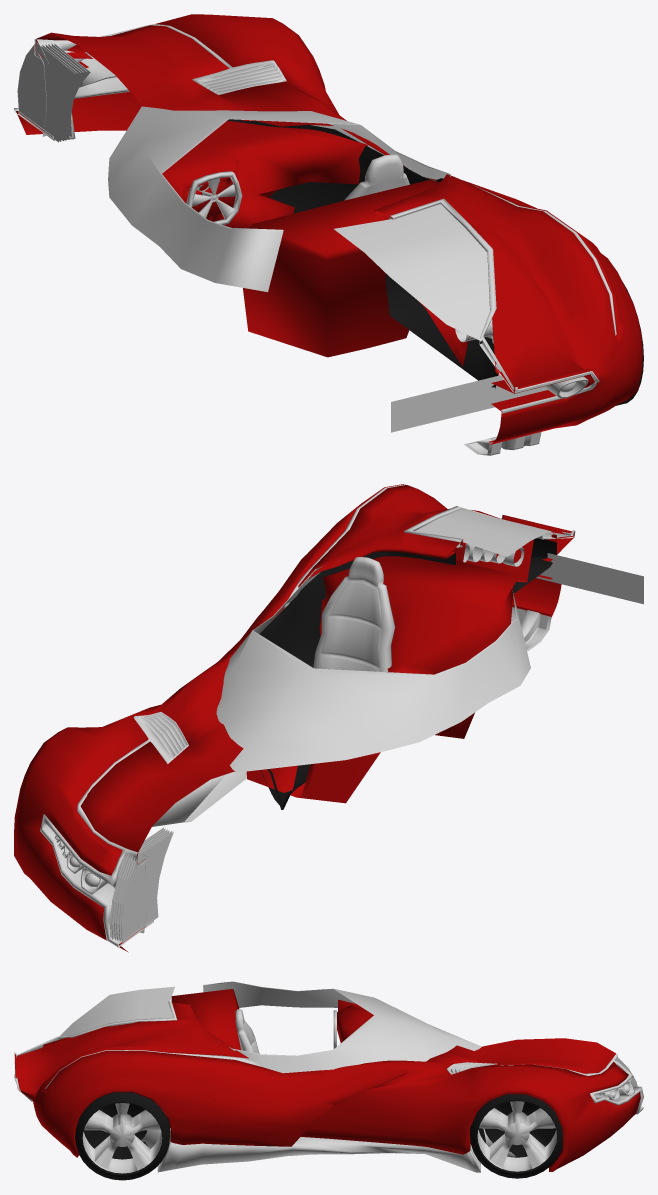
Rendered from ferrari.dae.
3 views of the same model, one above another, from view 1: azimuth 30°, elevation 25°; view 2: azimuth 150°, elevation 25°; view 3: azimuth 270°, elevation 25° (orthographic). The views are drawn at different scales.
Parts seen in each view (by area): view 1: Body, Dashboard, Windshield, Engine_Glass, Grille, Front_Chrome, Rear, Engine_Compartment, Passenger_Compartment, Rear_Chrom, Steering_Wheel, Seats (+2 smaller); view 2: Body, Windshield, Dashboard, Seats, Front_Chrome, Passenger_Compartment, Grille, Engine_Glass, Rear, Side_Bumpers, Engine_Cover, Diffuser (+3 smaller); view 3: Body, Wheels, Windshield, Side_Bumpers, Dashboard, Engine_Glass, Front_Chrome, Rear_Chrom, Seats, Shoulder_Chrome, Headlight_Chrome.
Part boxes in pixels (<box>): Body: <box>16,14,642,444</box>; Dashboard: <box>162,120,439,357</box>; Windshield: <box>108,106,450,292</box>; Engine_Glass: <box>334,204,489,340</box>; Grille: <box>17,42,90,142</box>; Front_Chrome: <box>14,24,286,140</box>; Rear: <box>391,375,547,432</box>; Engine_Compartment: <box>385,273,498,388</box>; Passenger_Compartment: <box>227,119,443,213</box>; Rear_Chrom: <box>388,198,599,413</box>; Steering_Wheel: <box>186,171,242,224</box>; Seats: <box>344,154,409,200</box>; Body: <box>14,484,574,952</box>; Windshield: <box>216,560,530,772</box>; Dashboard: <box>246,556,518,803</box>; Seats: <box>313,557,395,671</box>; Front_Chrome: <box>40,712,188,947</box>; Passenger_Compartment: <box>226,551,455,809</box>; Grille: <box>109,827,173,943</box>; Engine_Glass: <box>415,509,553,556</box>; Rear: <box>536,553,643,604</box>; Side_Bumpers: <box>152,771,246,826</box>; Engine_Cover: <box>452,539,533,582</box>; Diffuser: <box>511,607,551,650</box>; Body: <box>15,1002,640,1171</box>; Wheels: <box>75,1092,562,1180</box>; Windshield: <box>203,981,481,1073</box>; Side_Bumpers: <box>141,1128,515,1172</box>; Dashboard: <box>171,989,373,1050</box>; Engine_Glass: <box>60,986,174,1036</box>; Front_Chrome: <box>446,1053,643,1114</box>; Rear_Chrom: <box>14,1001,176,1101</box>; Seats: <box>235,1009,259,1053</box>; Shoulder_Chrome: <box>45,1050,260,1088</box>; Headlight_Chrome: <box>594,1081,634,1100</box>.
Bounding box in the file's own units: 4.13 × 11.23 × 2.55.
